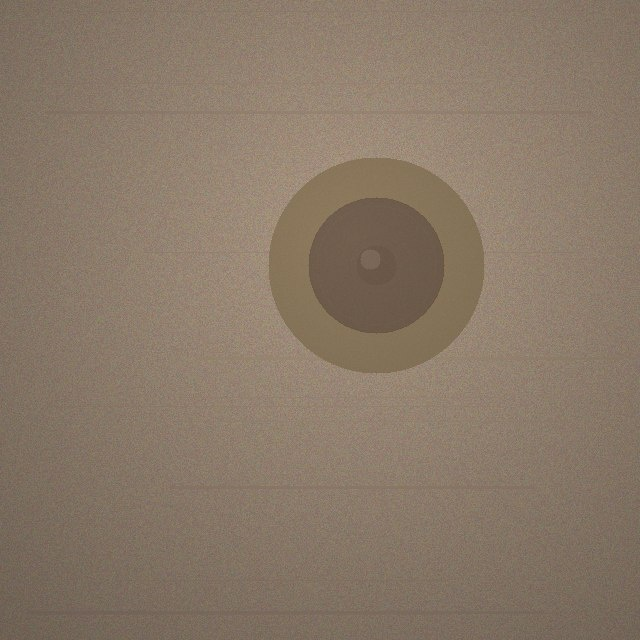good: (268, 157, 484, 373)
